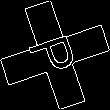P_E: (25, 29, 85, 81)
